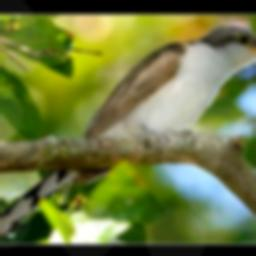Cuckoo: (0, 22, 256, 241)
